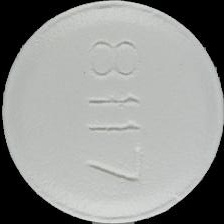0093-8117: (0, 0, 224, 224)
